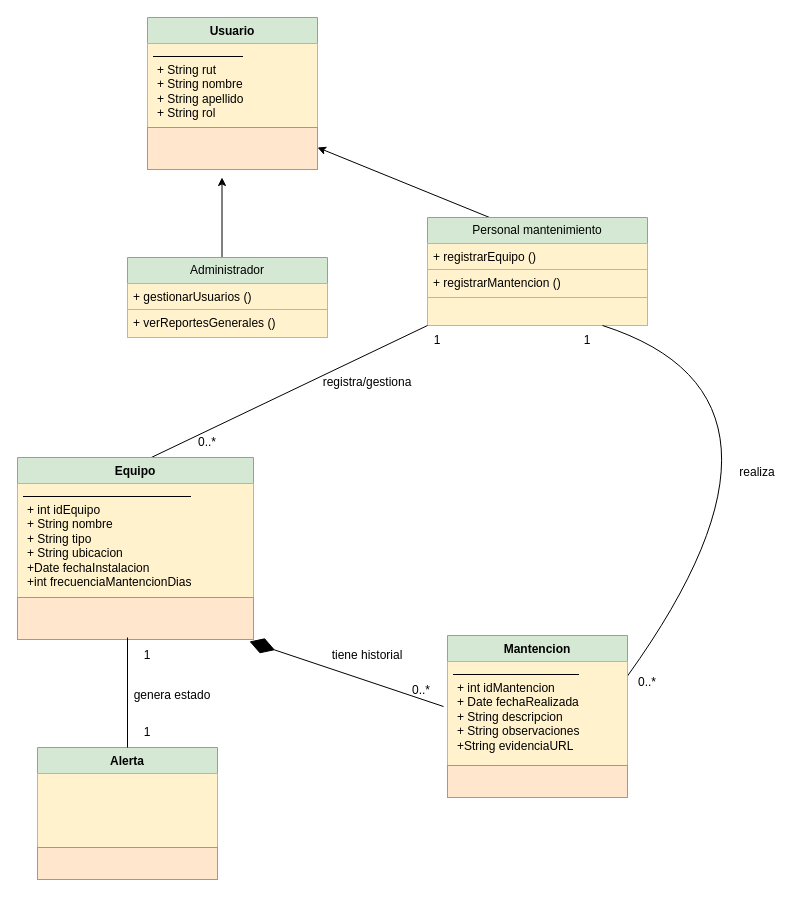
The diagram is 805 pixels wide and 900 high, and some of its shapes have lost their labels. The centre of each missing label's shape, as x and y in pixels:
+ consultarAlertas (): the point at 537,311
+ generarNotificacion (): the point at 127,863
+ guardarHistorial (): the point at 537,781
+ login () + logout (): the point at 232,148
+ obtenerEstadoSemaforo (): String + calcularProximaMantencion (): Date: the point at 135,618
+ String color + String mensaje + int diasRestantes: the point at 127,810
